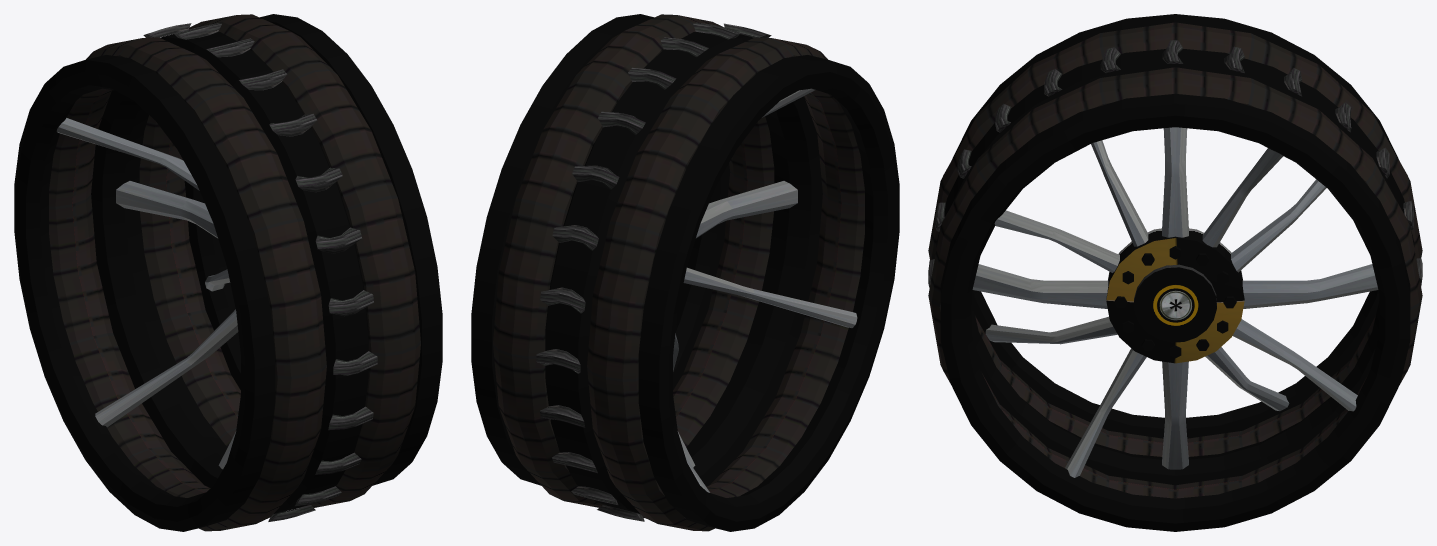
Rendered from K-WheelWeel.fbx.
3 views of the same model, side by side, from view 1: azimuth 30°, elevation 25°; view 2: azimuth 150°, elevation 25°; view 3: azimuth 270°, elevation 25° (orthographic). The views are drawn at different scales.
Parts seen in each view (by area): view 1: WheelInnerInflate, WheelInnerCircle, WheeOuterInflate, WheeCenterCircle, WheelOuterCircle, pCube420, pCube417, pCube421, pCube430, pCube431, pCube429, pCube432 (+5 smaller); view 2: WheelInnerInflate, WheelInnerCircle, WheeOuterInflate, WheeCenterCircle, WheelOuterCircle, pCube415, pCube419, pCube446, pCube447, pCube445, pCube444, pCube448 (+4 smaller); view 3: WheelOuterCircle, WheeOuterInflate, WheelInnerInflate, WheeCenterCircle, WheelInnerCircle, pCylinder46, pCylinder57, pCube417, pCube415, pCube414, pCube416, pCube423 (+7 smaller).
Boxes of the visible parts, bbox=[...] form: WheelInnerInflate: bbox=[49, 37, 326, 531]; WheelInnerCircle: bbox=[14, 55, 275, 531]; WheeOuterInflate: bbox=[139, 14, 420, 507]; WheeCenterCircle: bbox=[91, 32, 368, 513]; WheelOuterCircle: bbox=[184, 14, 442, 485]; pCube420: bbox=[95, 309, 238, 427]; pCube417: bbox=[116, 181, 217, 238]; pCube421: bbox=[56, 118, 199, 190]; pCube430: bbox=[315, 227, 361, 253]; pCube431: bbox=[328, 290, 373, 316]; pCube429: bbox=[295, 167, 342, 192]; pCube432: bbox=[333, 351, 377, 375]; WheelInnerInflate: bbox=[587, 37, 864, 531]; WheelInnerCircle: bbox=[638, 55, 899, 531]; WheeOuterInflate: bbox=[493, 14, 774, 507]; WheeCenterCircle: bbox=[545, 32, 822, 513]; WheelOuterCircle: bbox=[471, 14, 730, 485]; pCube415: bbox=[696, 181, 797, 238]; pCube419: bbox=[683, 267, 857, 327]; pCube446: bbox=[552, 225, 598, 250]; pCube447: bbox=[572, 165, 619, 189]; pCube445: bbox=[540, 287, 585, 313]; pCube444: bbox=[536, 349, 580, 373]; pCube448: bbox=[598, 111, 645, 134]; WheelOuterCircle: bbox=[940, 94, 1410, 531]; WheeOuterInflate: bbox=[928, 67, 1422, 498]; WheelInnerInflate: bbox=[928, 22, 1422, 456]; WheeCenterCircle: bbox=[936, 49, 1414, 485]; WheelInnerCircle: bbox=[951, 14, 1399, 438]; pCylinder46: bbox=[1106, 228, 1244, 363]; pCylinder57: bbox=[1134, 264, 1216, 342]; pCube417: bbox=[1242, 264, 1378, 308]; pCube415: bbox=[972, 264, 1108, 308]; pCube414: bbox=[1162, 127, 1188, 237]; pCube416: bbox=[1162, 361, 1188, 469]; pCube423: bbox=[1232, 319, 1357, 411].
Size of the model in its own units: 20.12 by 45 by 45.
